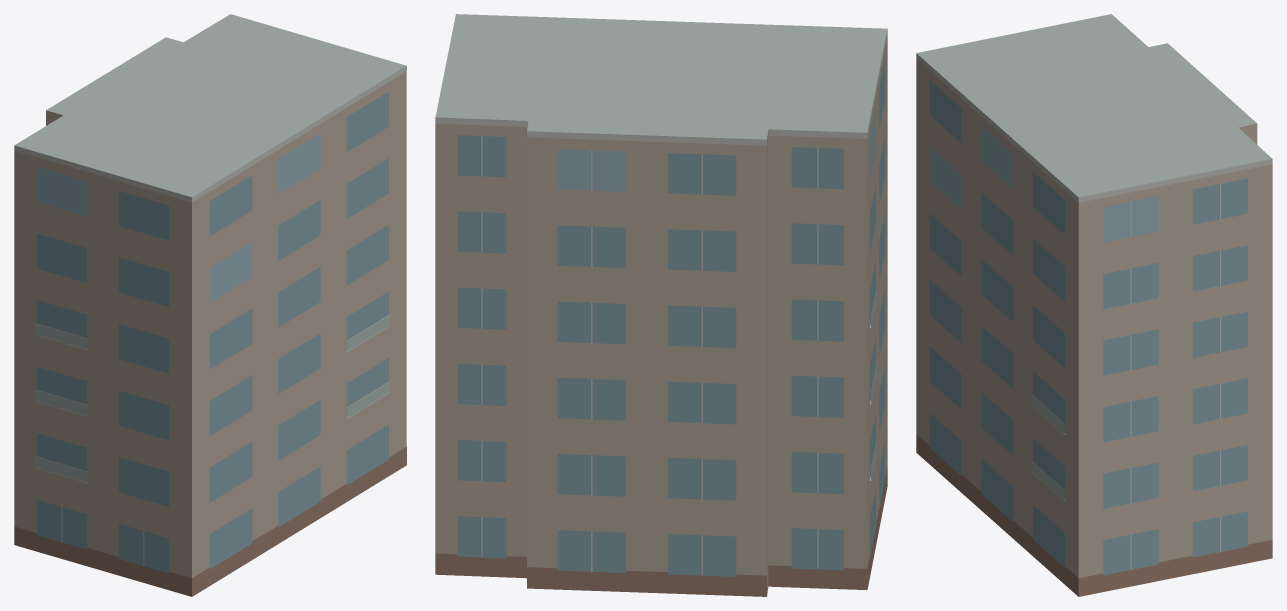
Rendered from survey-upis-32758088.glb.
3 views of the same model, side by side, from view 1: azimuth 30°, elevation 25°; view 2: azimuth 150°, elevation 25°; view 3: azimuth 270°, elevation 25° (orthographic). The views are drawn at different scales.
Visible parts, largest first — view 1: survey-upis-32758088.tmp; view 2: survey-upis-32758088.tmp; view 3: survey-upis-32758088.tmp.
Part boxes in pixels (bbox=[...]): survey-upis-32758088.tmp: bbox=[14, 14, 406, 596]; survey-upis-32758088.tmp: bbox=[435, 14, 887, 596]; survey-upis-32758088.tmp: bbox=[916, 14, 1272, 596].
Bounding box in the file's own units: 18.03 × 18.3 × 14.8.
